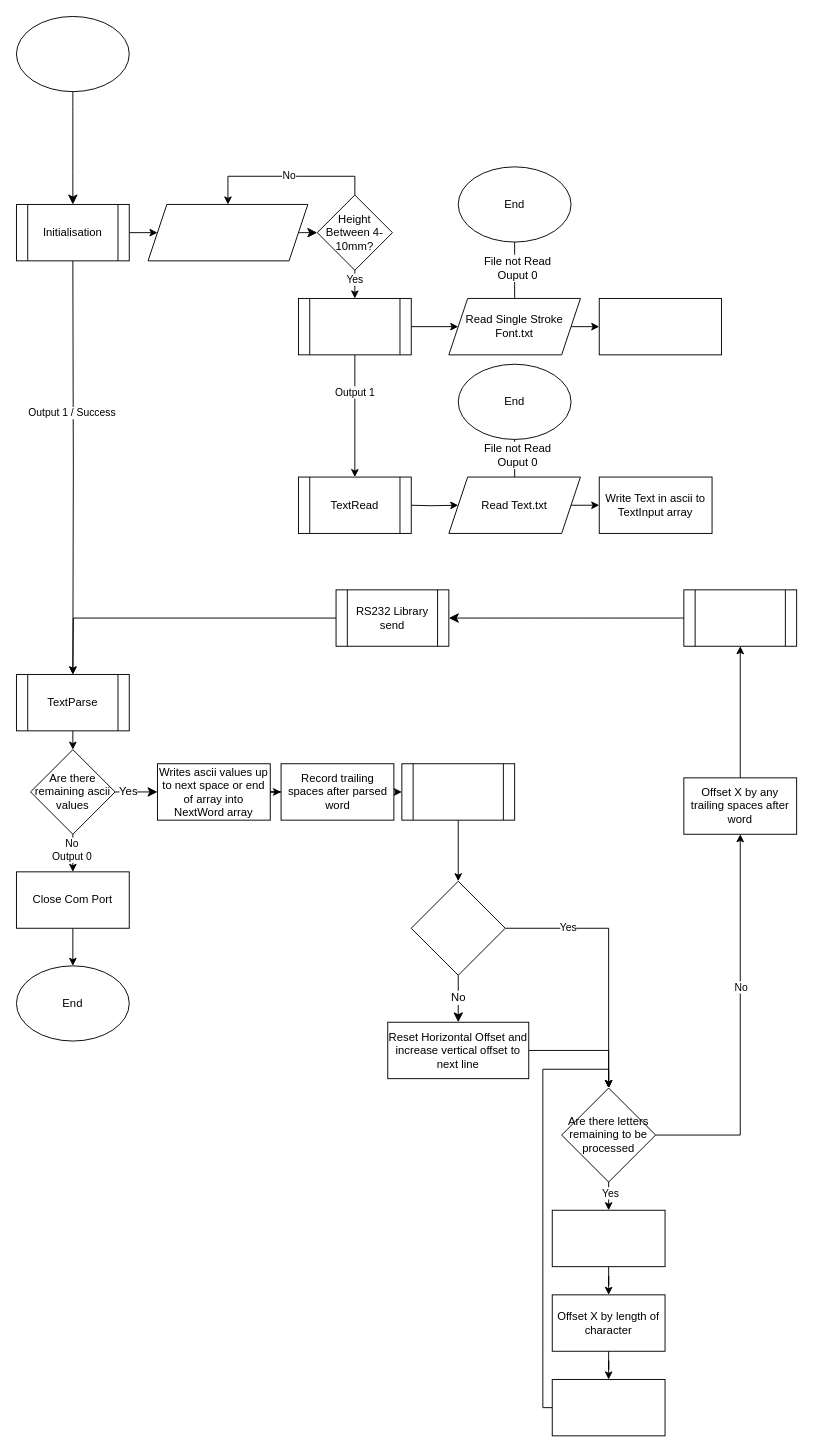
The diagram is 813 pixels wide and 1452 high, and some of its shapes have lost their labels. Here are the shapes that lost their labels. From the top down, the centre of each, then its label:
point (72, 54): Start
point (227, 232): Request User Specify Font Height between 4-8mm
point (354, 326): FontRead
point (659, 326): Adjust Font information with correct height and write to FontData Structure
point (740, 617): Serial Send
point (458, 791): GCodeGeneration
point (457, 927): Does word fit within remaining width
point (608, 1238): Read FontData for corrseponding ascii value and generate GCode from it
point (608, 1407): Progress to next ascii value
